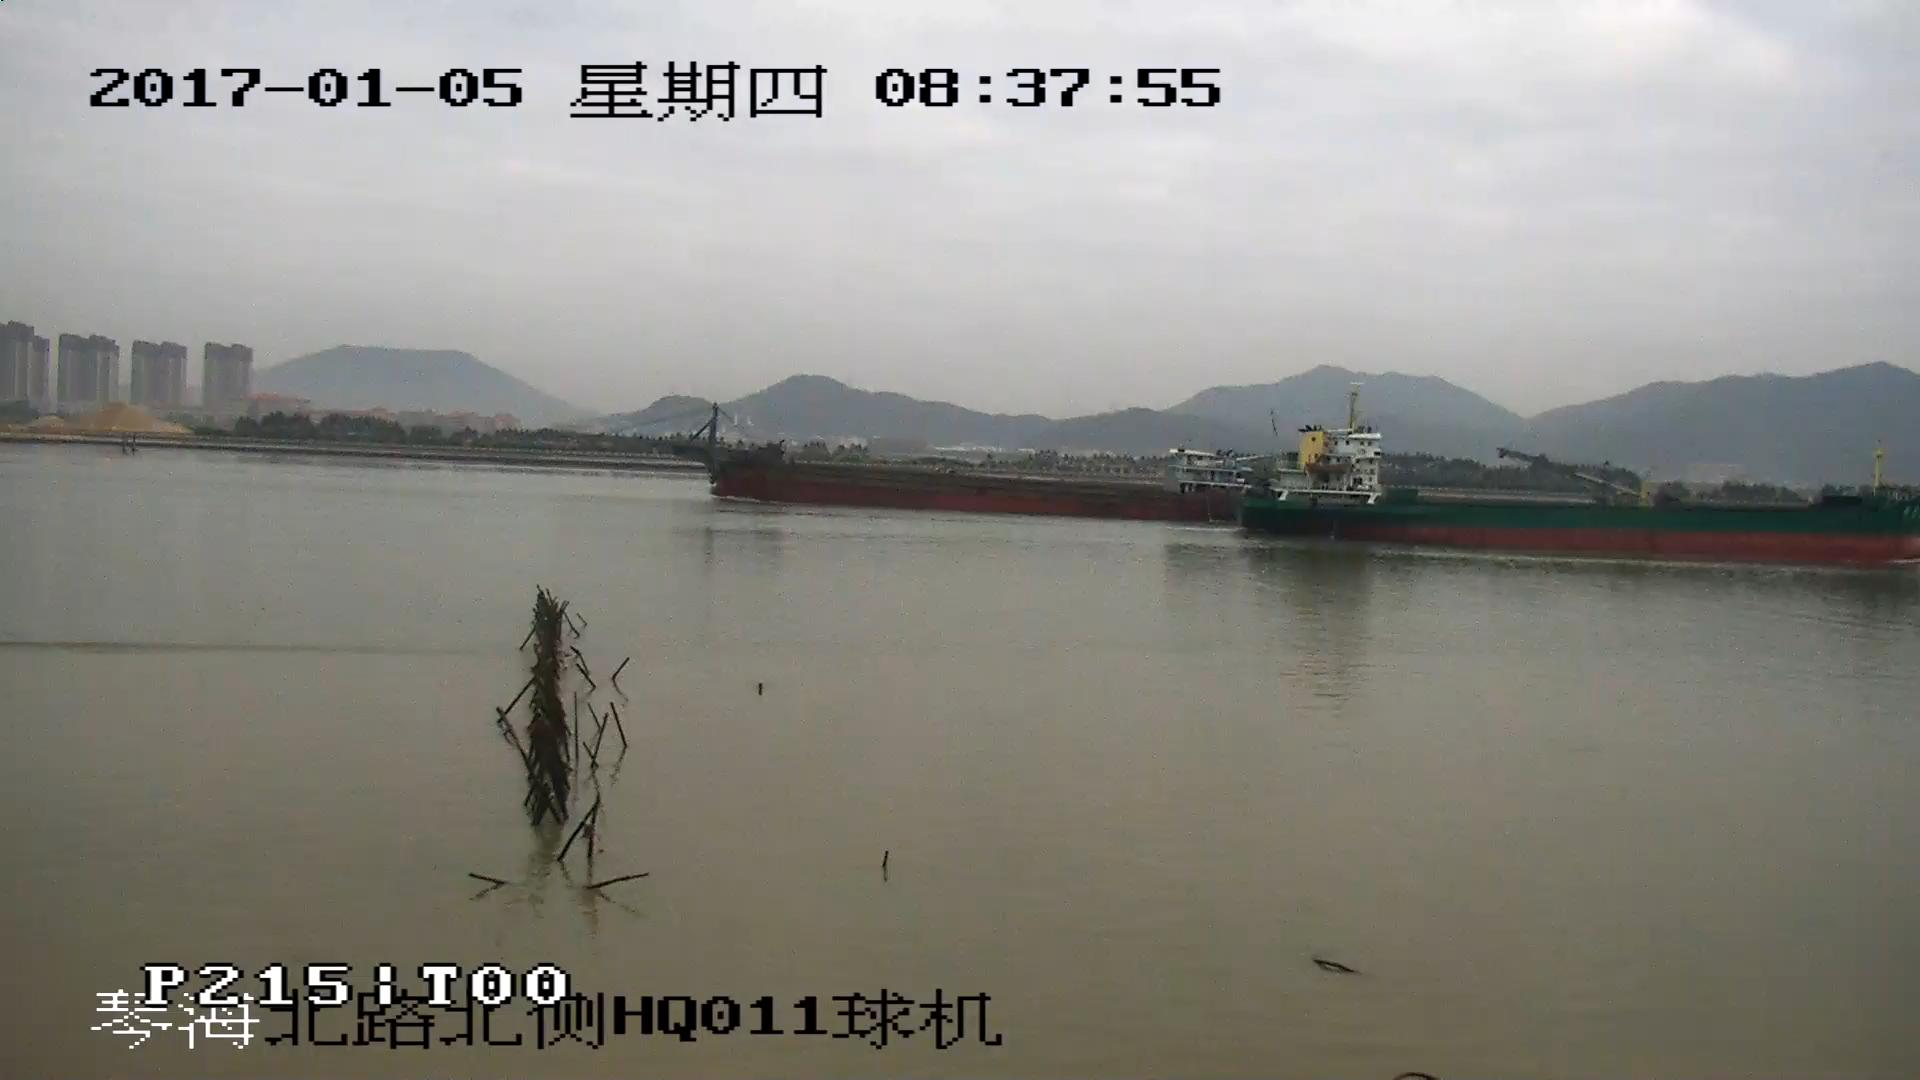bulk cargo carrier: (661, 404, 1243, 520)
general cargo ship: (1245, 390, 1920, 565)
